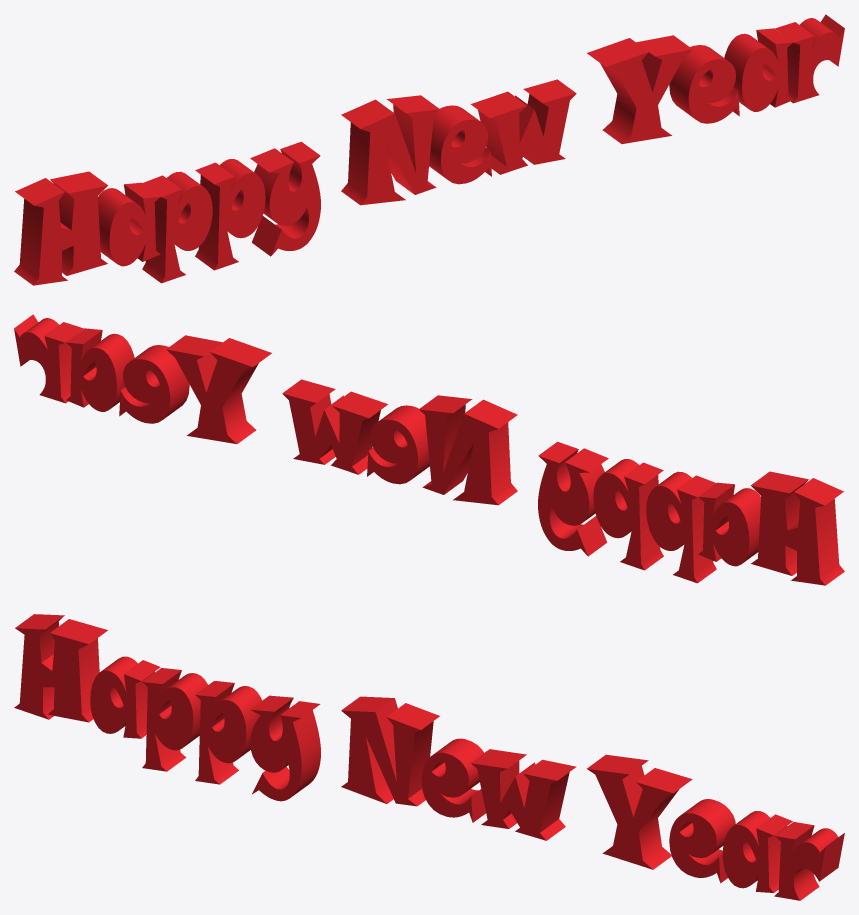
Rendered from happynewyear.glb.
3 views of the same model, one above another, from view 1: azimuth 30°, elevation 25°; view 2: azimuth 150°, elevation 25°; view 3: azimuth 330°, elevation 25° (orthographic).
Parts seen in each view (by area): view 1: node_id94; view 2: node_id94; view 3: node_id94.
Part boxes in pixels (box(x1,y1,x2,y2)): node_id94: box(14, 14, 844, 285); node_id94: box(14, 314, 844, 585); node_id94: box(14, 614, 844, 900).
Size of the model in its own units: 0.4958 by 0.0671 by 0.0204.
Materials: 1 (1 with a texture image).
